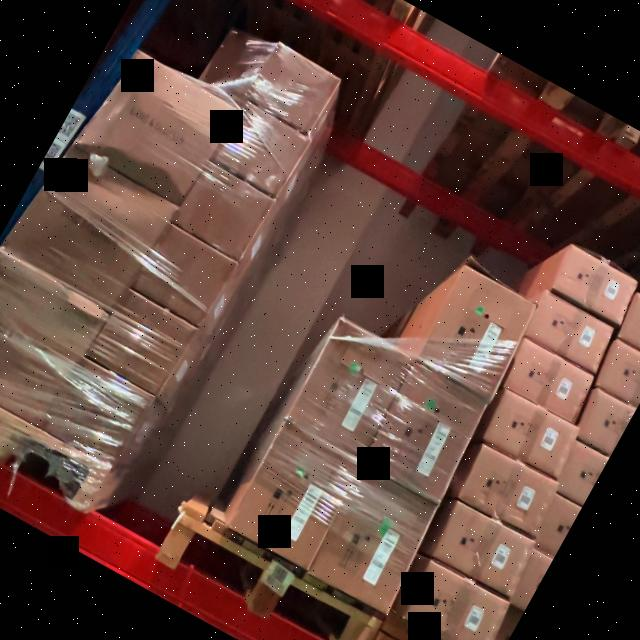box: (16, 148, 170, 306), (82, 50, 234, 202), (231, 426, 361, 564), (286, 321, 414, 460), (365, 367, 489, 501), (313, 474, 436, 608), (420, 268, 539, 396), (48, 362, 150, 462), (430, 506, 535, 600), (92, 292, 192, 389), (134, 228, 232, 324), (173, 165, 271, 260), (459, 448, 558, 532), (250, 44, 338, 130), (216, 109, 304, 194), (486, 395, 578, 475), (408, 566, 507, 640), (529, 296, 615, 372), (504, 346, 592, 420), (554, 249, 638, 323)
